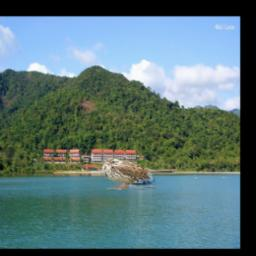Sparrow: (102, 157, 176, 190)
